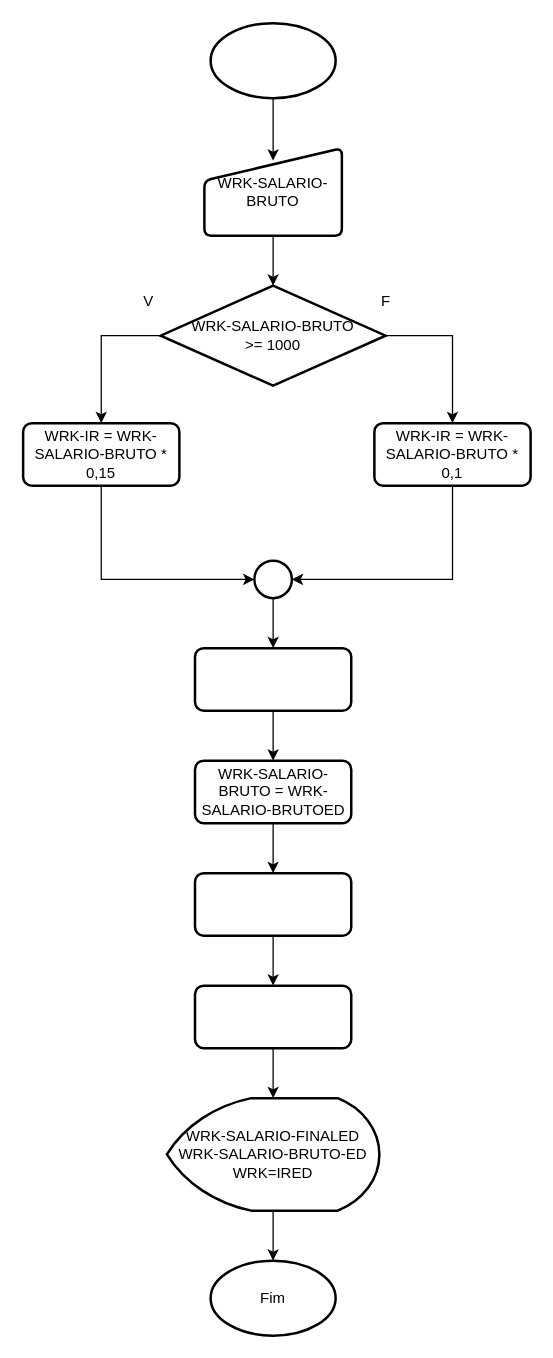
The diagram is 553 pixels wide and 1358 high, and some of its shapes have lost their labels. The centre of each missing label's shape, as x and y in pixels:
"Inicio" goes at [272,60].
"WRK-IR = WRK-IRED" goes at [272,903].
"WRK-SALARIO-FINAL = WRK-SALARIO-BRUTO - WRK-IR" goes at [272,678].
"WRK-SALARIO-FINAL = WRK-SALARIO-FINALED" goes at [272,1016].
